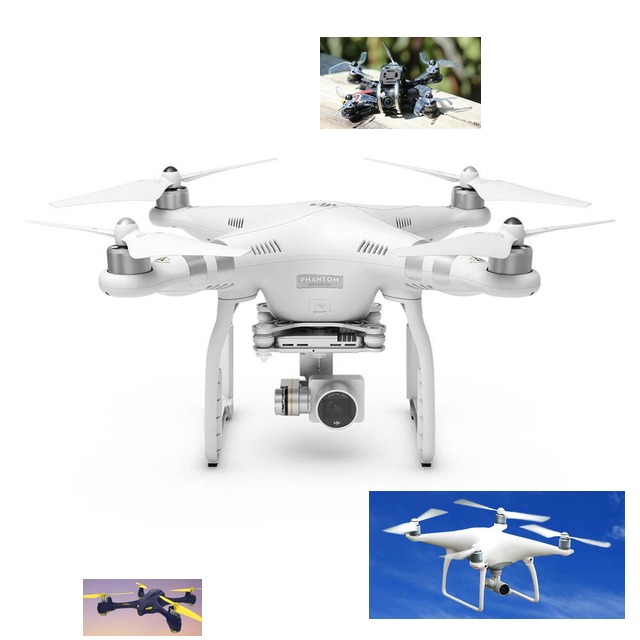drone: (35, 147, 616, 474), (369, 491, 625, 619), (320, 37, 481, 129), (83, 579, 202, 636)
